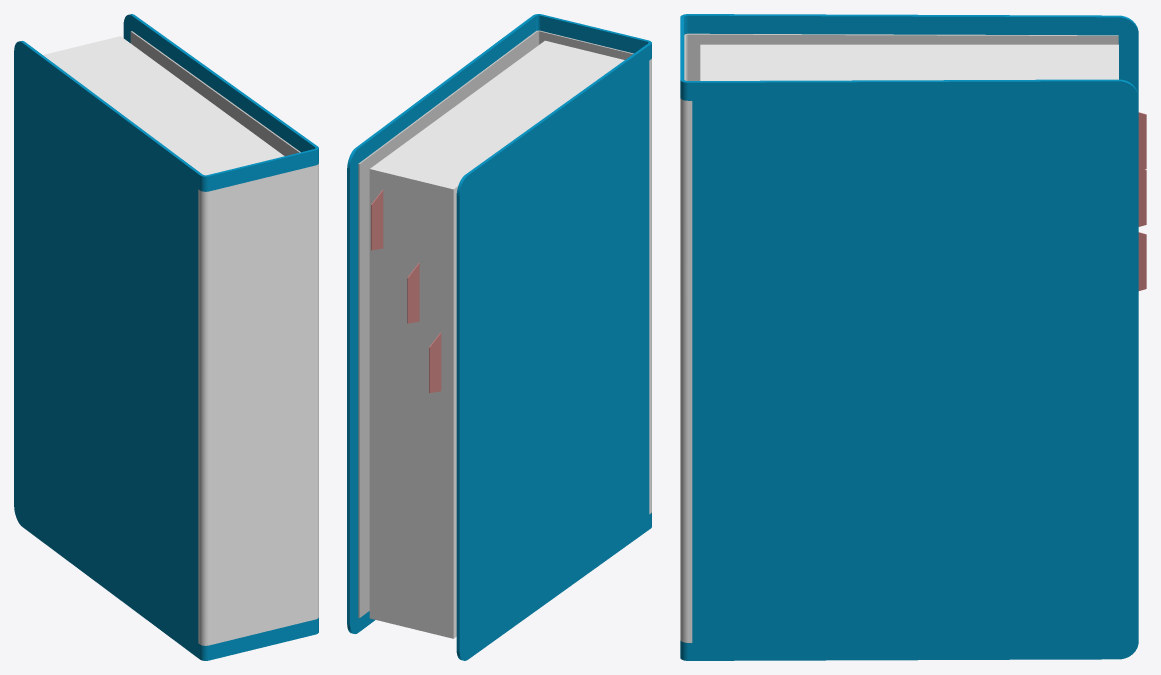
The model's file is 450_パイプ式ファイル中中身あり.glb.
3 renders of one model, left to right at view 1: azimuth 30°, elevation 25°; view 2: azimuth 150°, elevation 25°; view 3: azimuth 270°, elevation 25°, orthographic. The views are drawn at different scales.
Parts seen in each view (by area): view 1: 450_pipe_file_M_with_contents; view 2: 450_pipe_file_M_with_contents; view 3: 450_pipe_file_M_with_contents.
Part boxes in pixels (x1,y1,x2,y2): 450_pipe_file_M_with_contents: (14, 14, 318, 660); 450_pipe_file_M_with_contents: (347, 14, 651, 660); 450_pipe_file_M_with_contents: (680, 14, 1146, 660).
Bounding box in the file's own units: 0.0816 × 0.32 × 0.234.
